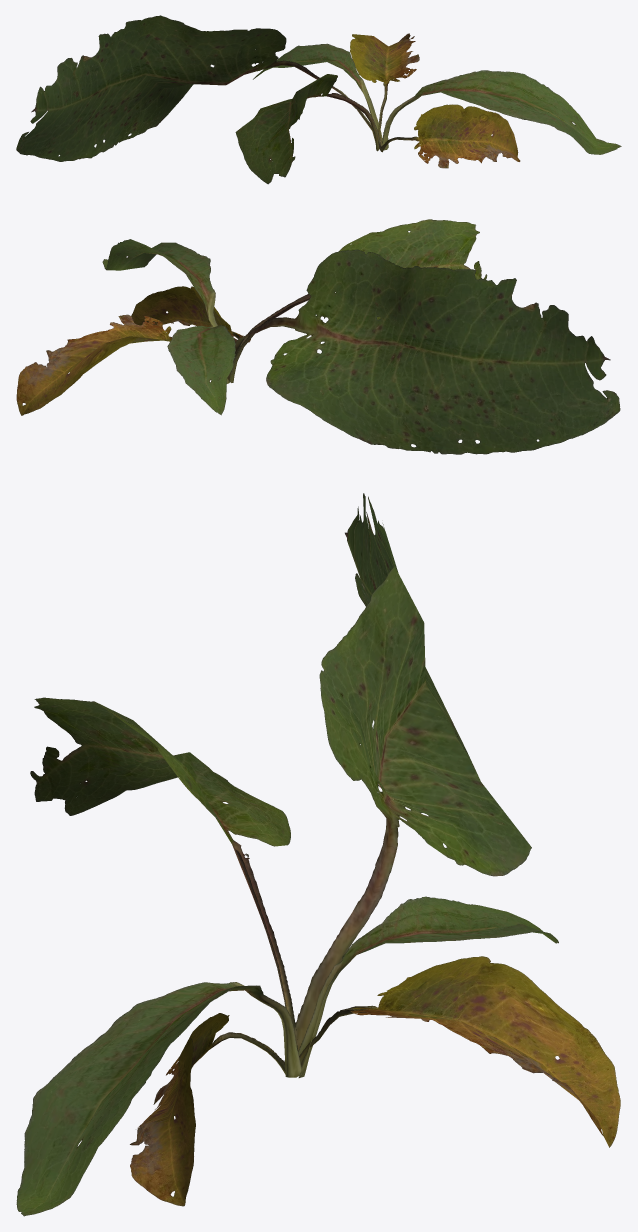
The model's file is weed_plant_02_e_LOD1.glb.
The picture shows the model from 3 angles, top to bottom: view 1: azimuth 30°, elevation 25°; view 2: azimuth 150°, elevation 25°; view 3: azimuth 270°, elevation 25°; orthographic projection. The views are drawn at different scales.
Visible parts, largest first — view 1: weed_plant_02_e_LOD1__lod0; view 2: weed_plant_02_e_LOD1__lod0; view 3: weed_plant_02_e_LOD1__lod0.
Boxes of the visible parts, left/top/right/bottom form: weed_plant_02_e_LOD1__lod0: left=16, top=15, right=621, bottom=184; weed_plant_02_e_LOD1__lod0: left=16, top=219, right=620, bottom=454; weed_plant_02_e_LOD1__lod0: left=16, top=493, right=620, bottom=1216.
Size of what is drawn, in the model's own units: 0.1192 by 0.04 by 0.061.
Materials: 1 (1 with a texture image).
